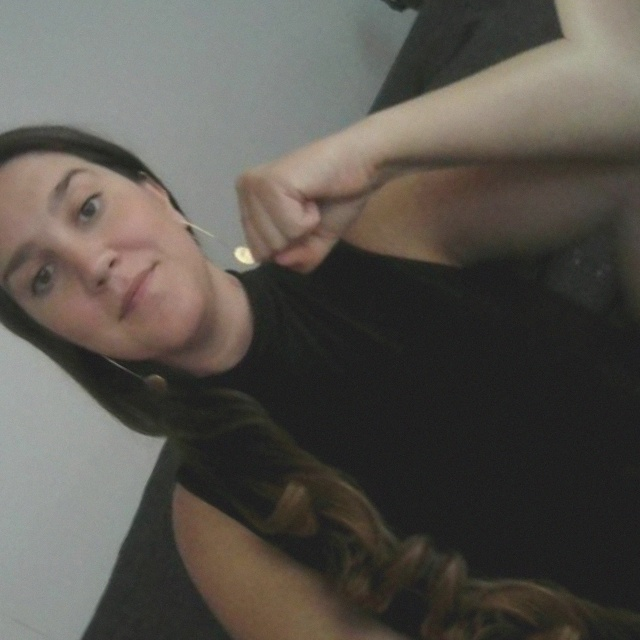Rock: (190, 91, 403, 318)
